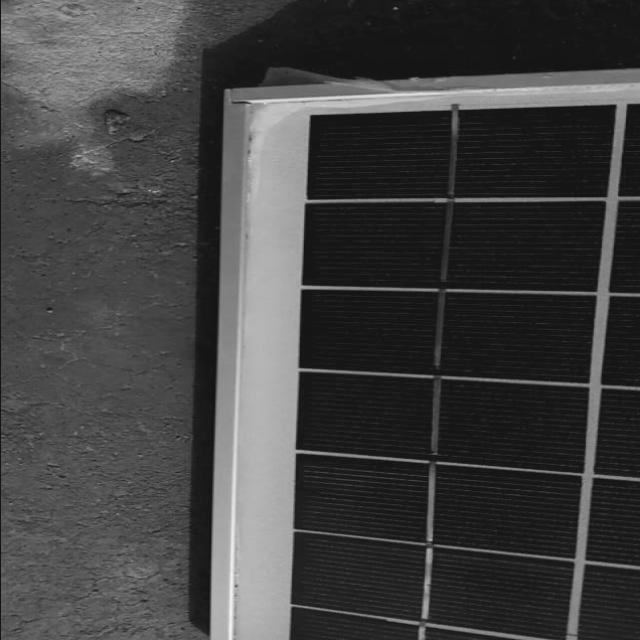Normal Solar Panel: (210, 69, 640, 638)
